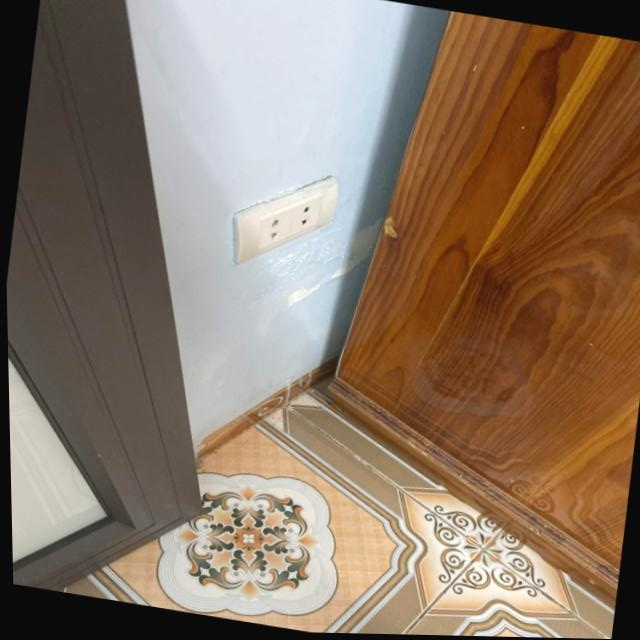outlet: (226, 160, 343, 279)
